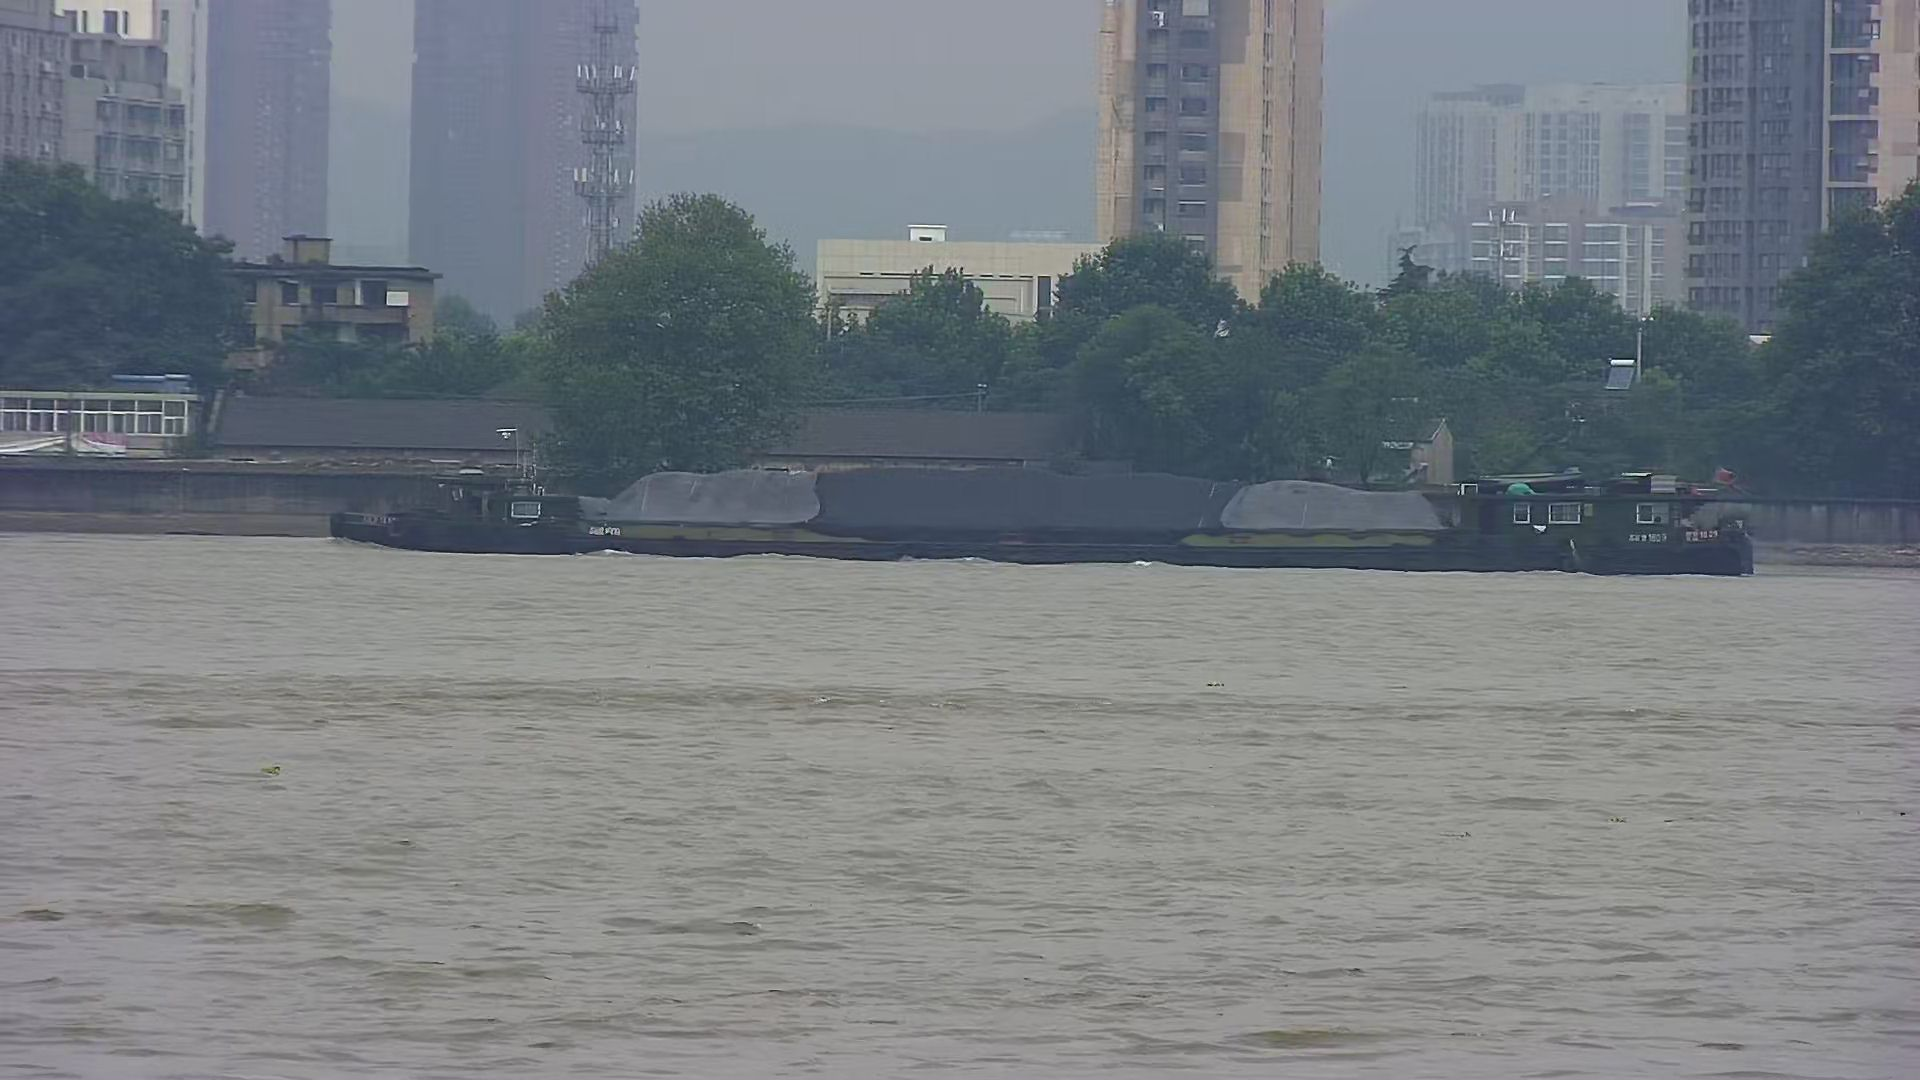ship: (369, 429, 1766, 589)
